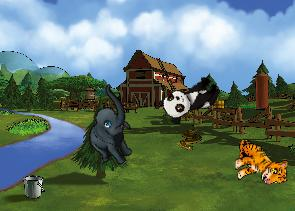elephant: (67, 83, 155, 172)
panda: (157, 70, 224, 127)
tiger: (233, 139, 288, 185)
